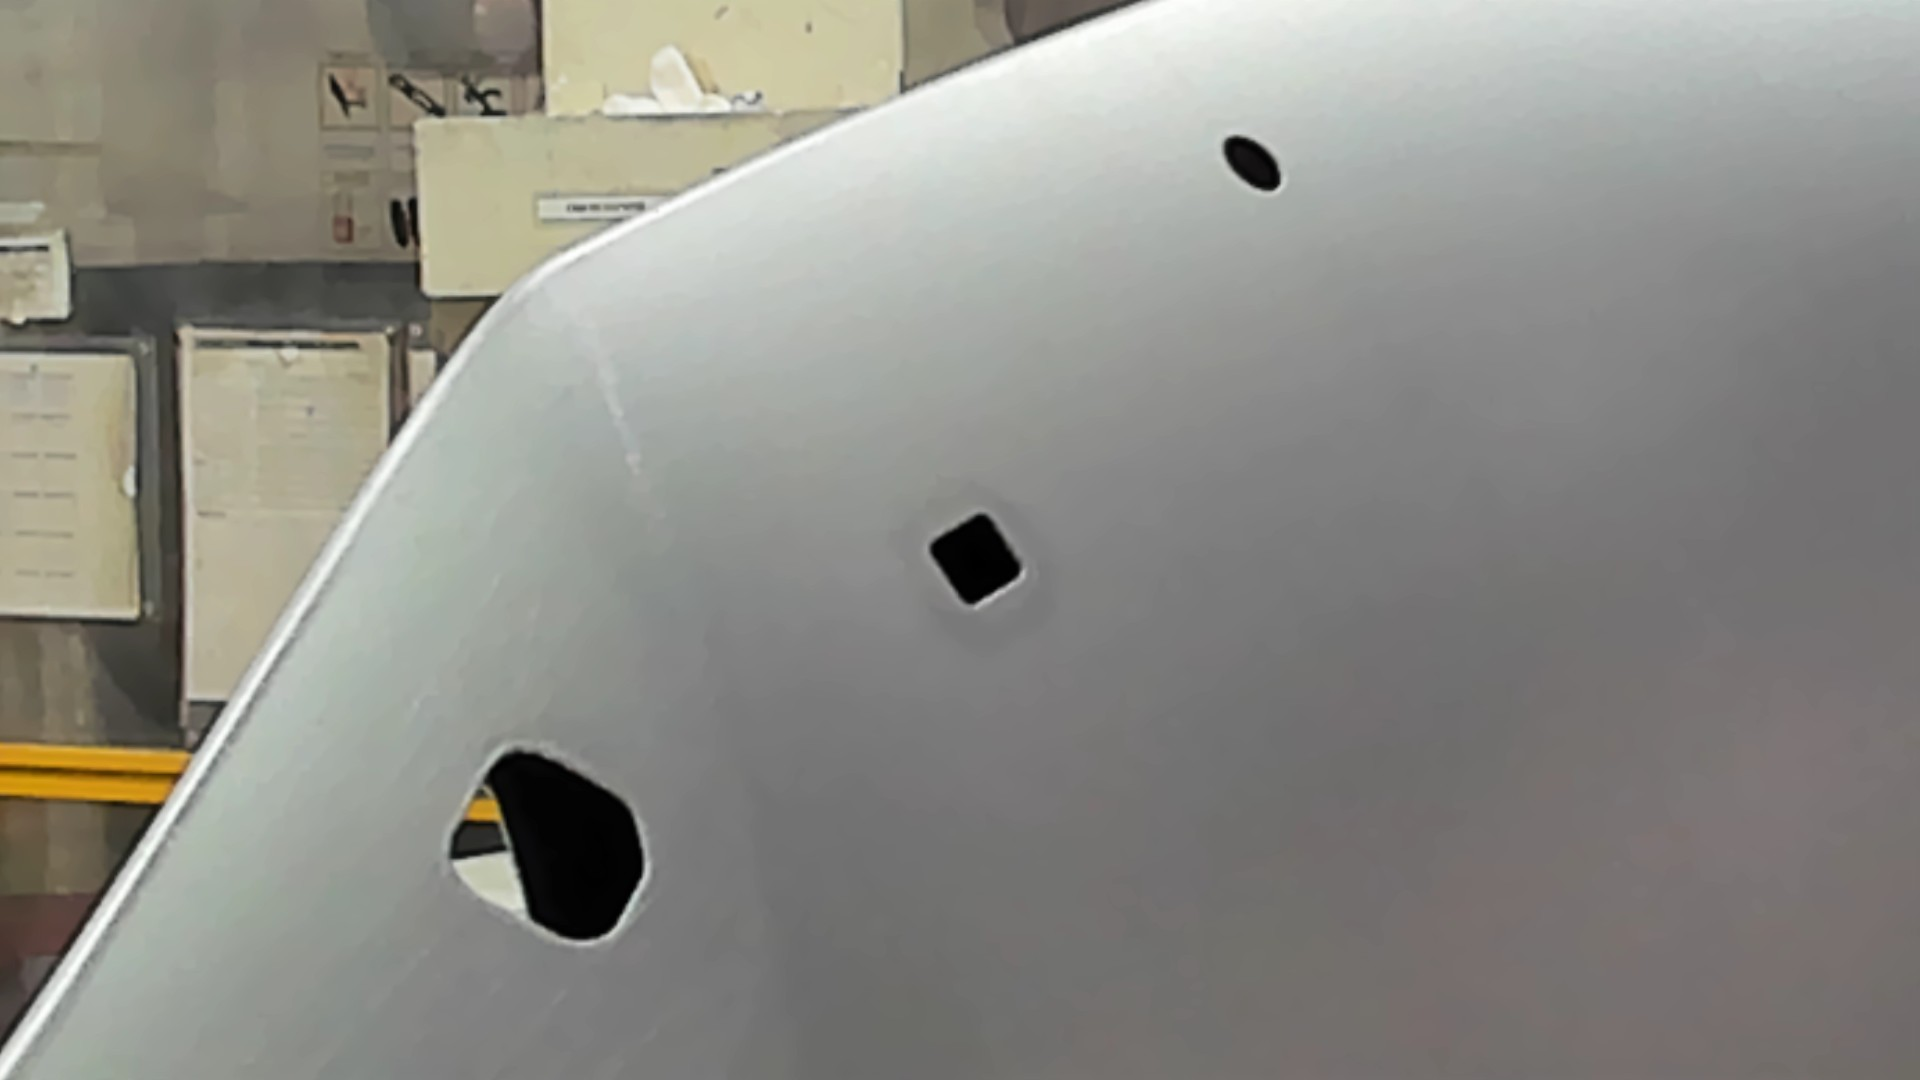chico: (1218, 128, 1288, 200)
grande: (440, 740, 657, 953)
mediano: (924, 508, 1033, 617)
